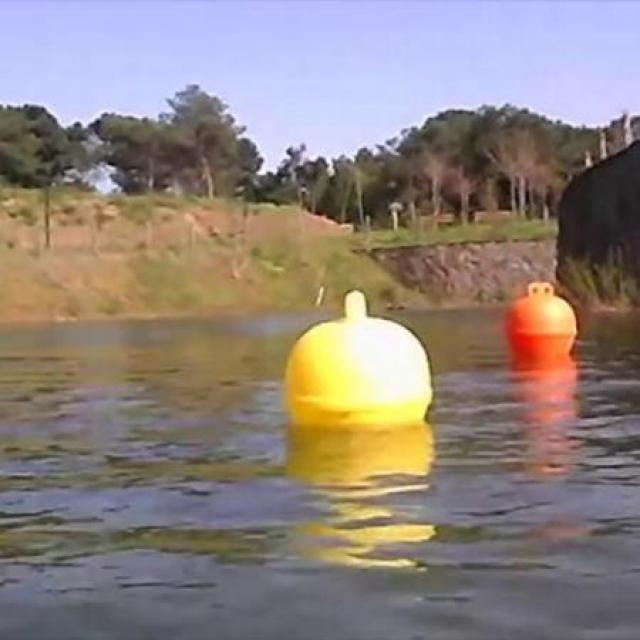buoy: (286, 289, 434, 425), (502, 281, 580, 363)
